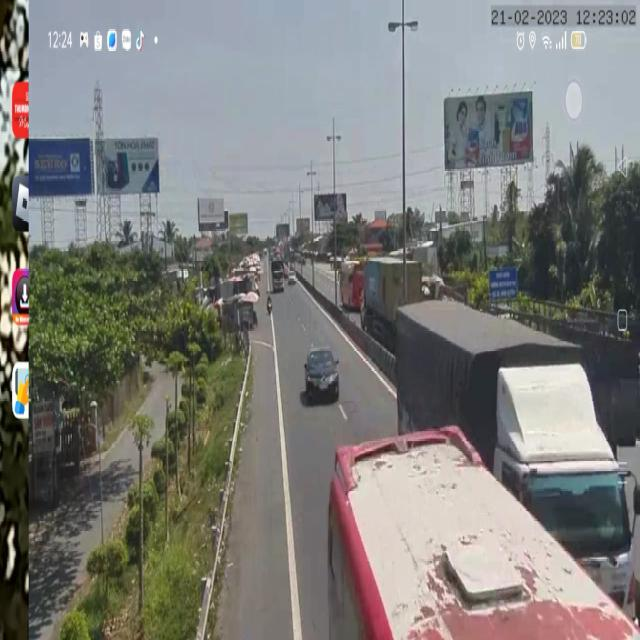bus: (326, 424, 640, 640), (337, 259, 364, 317)
car: (304, 343, 341, 405)
truck: (394, 293, 640, 615), (360, 258, 421, 354)
